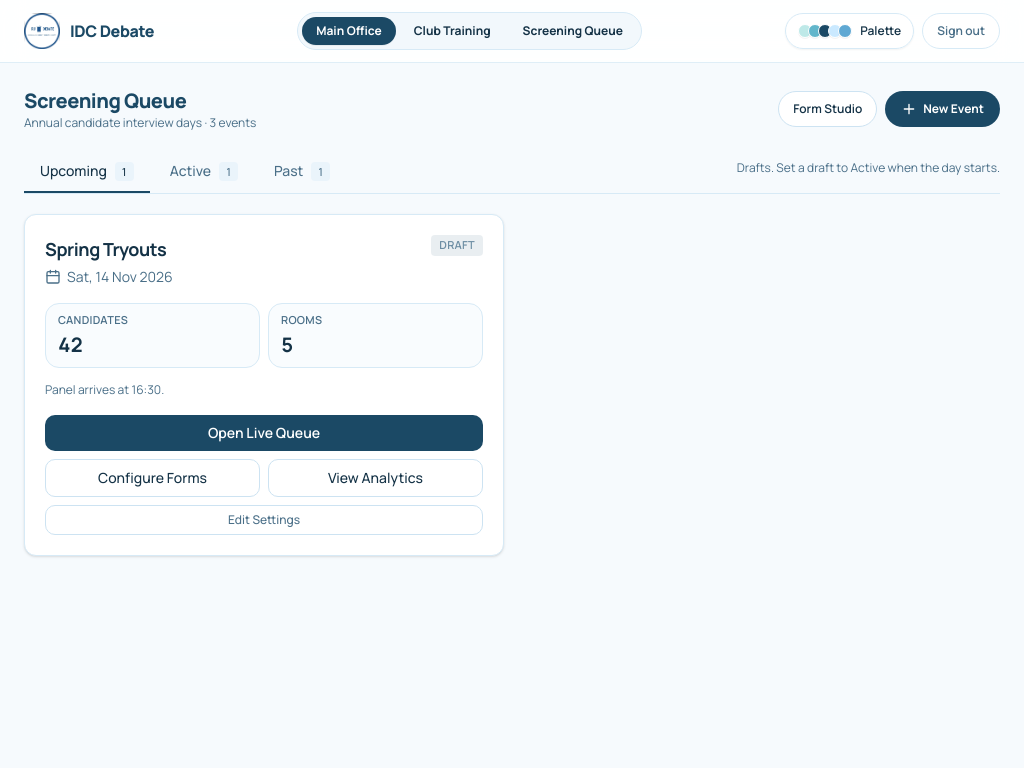
it: EventHub › edits the selected event’s settings without touching its counts
Click the button "Edit Settings". click: (264, 520)
box: x1=45 y1=505 x2=483 y2=535
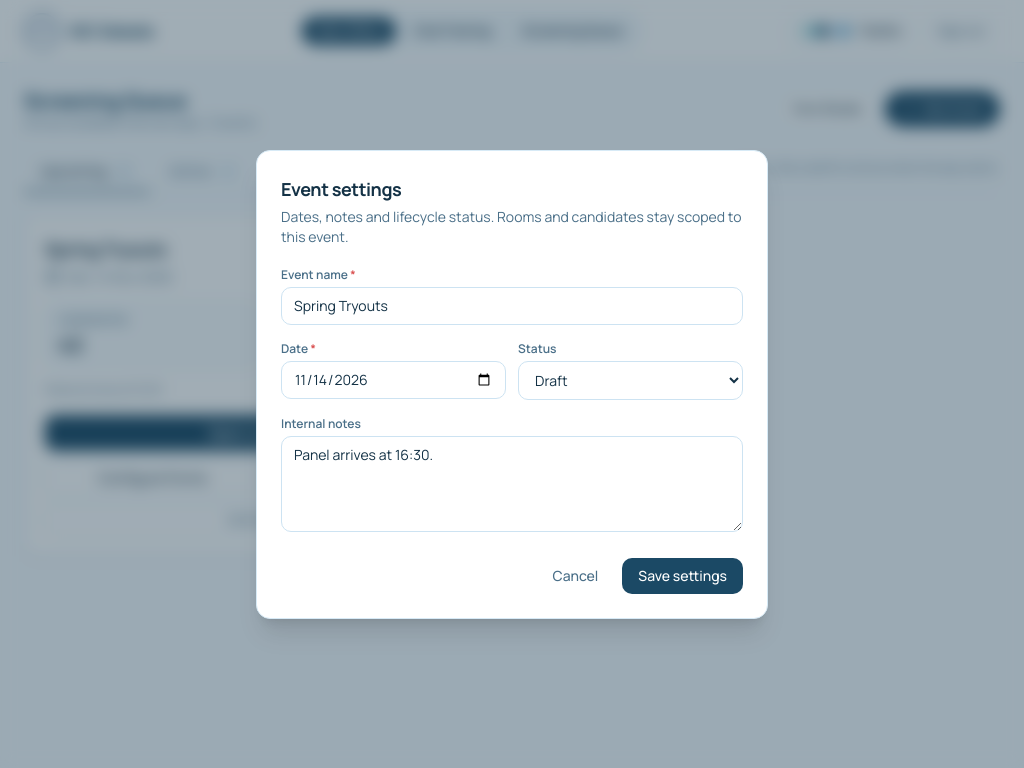
Replace the text in the field labelled "Event name *" with "Spring Tryouts — Day 2". click: (512, 306)
box: x1=281 y1=286 x2=743 y2=324
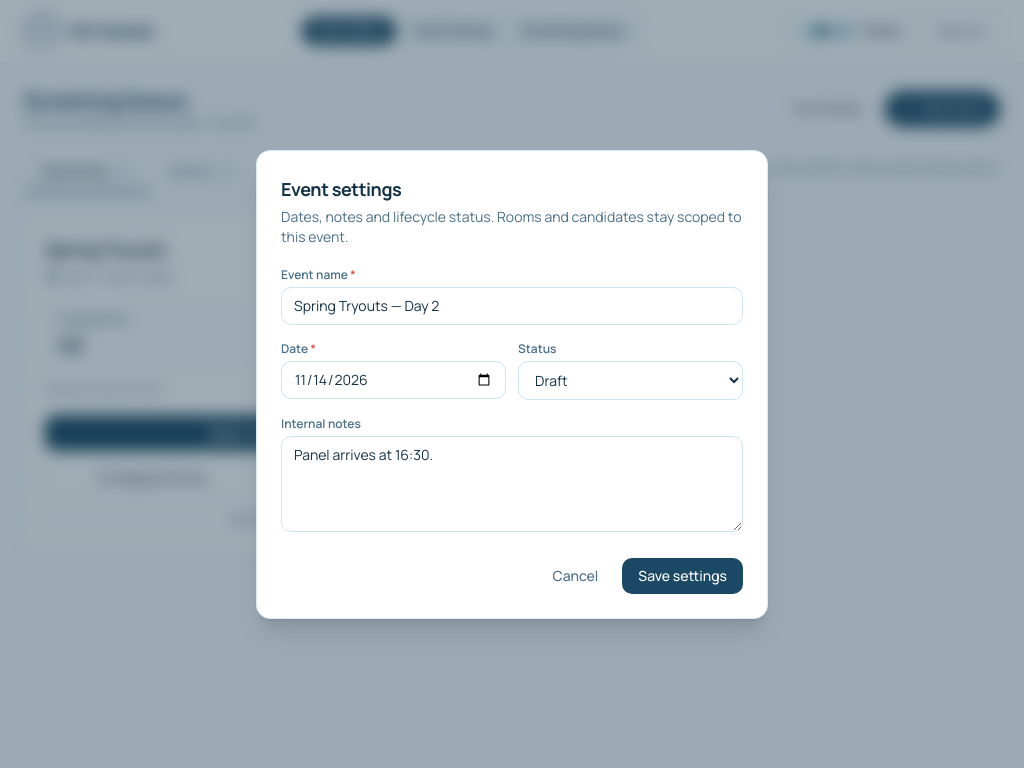
Select "Active" in the dropdown labelled "Status". click: (630, 380)
box: x1=518 y1=360 x2=743 y2=400
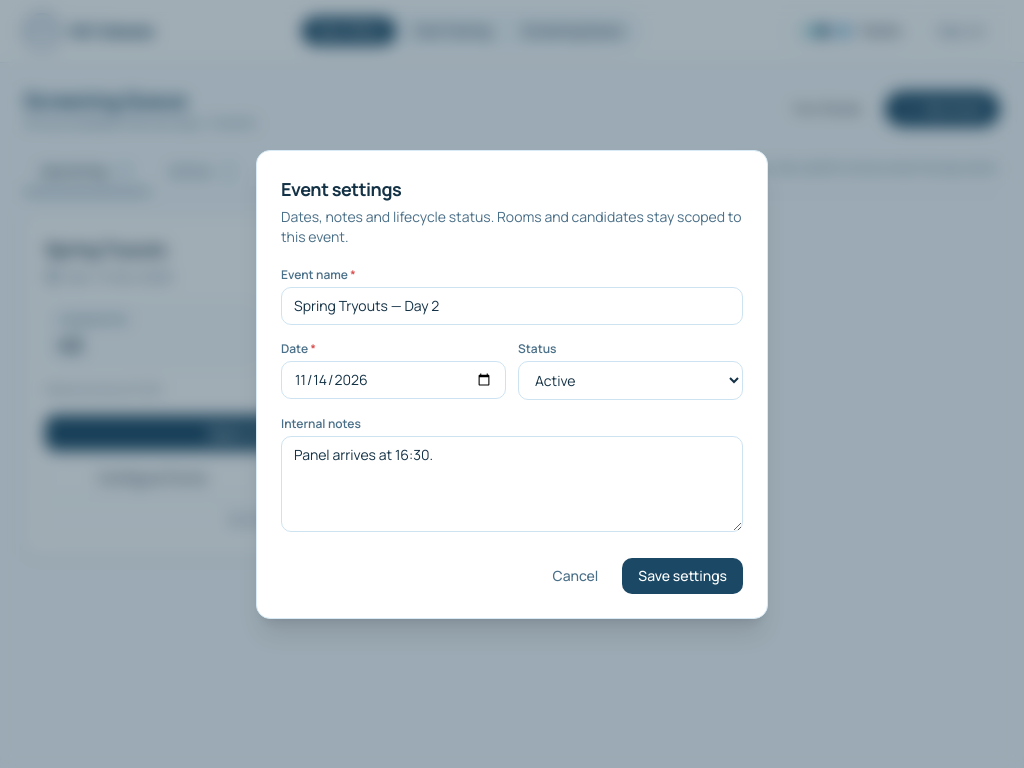
Click the button "Save settings". click: (683, 576)
box: x1=622 y1=558 x2=743 y2=594
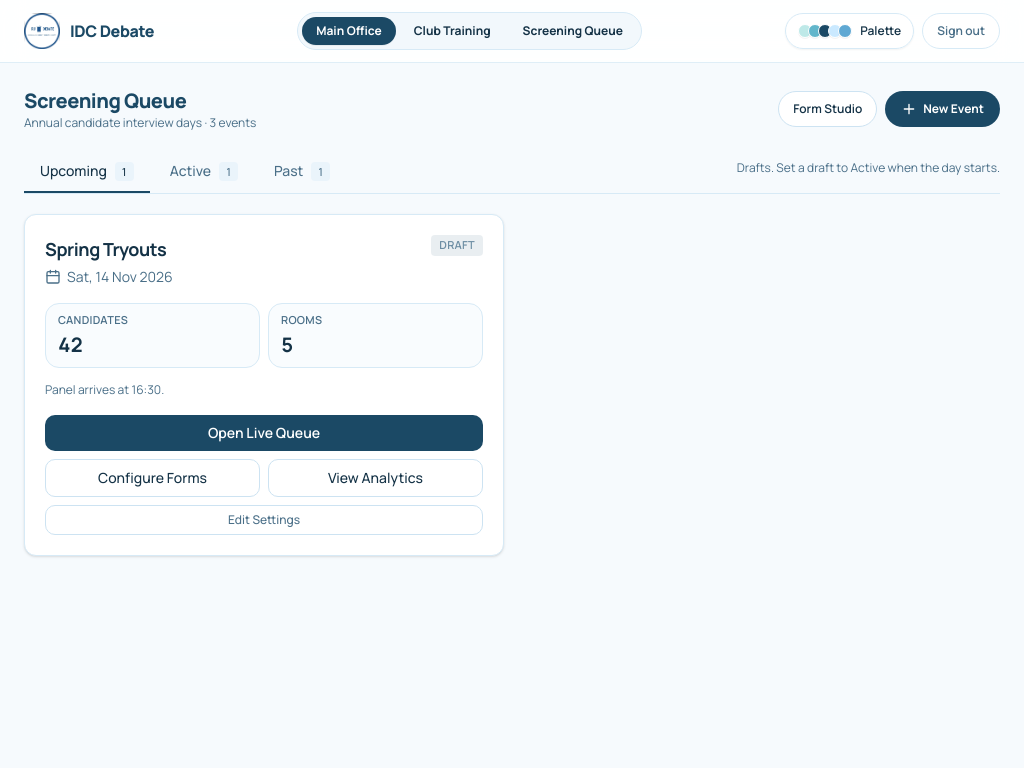
Expected: the dialog is gone
